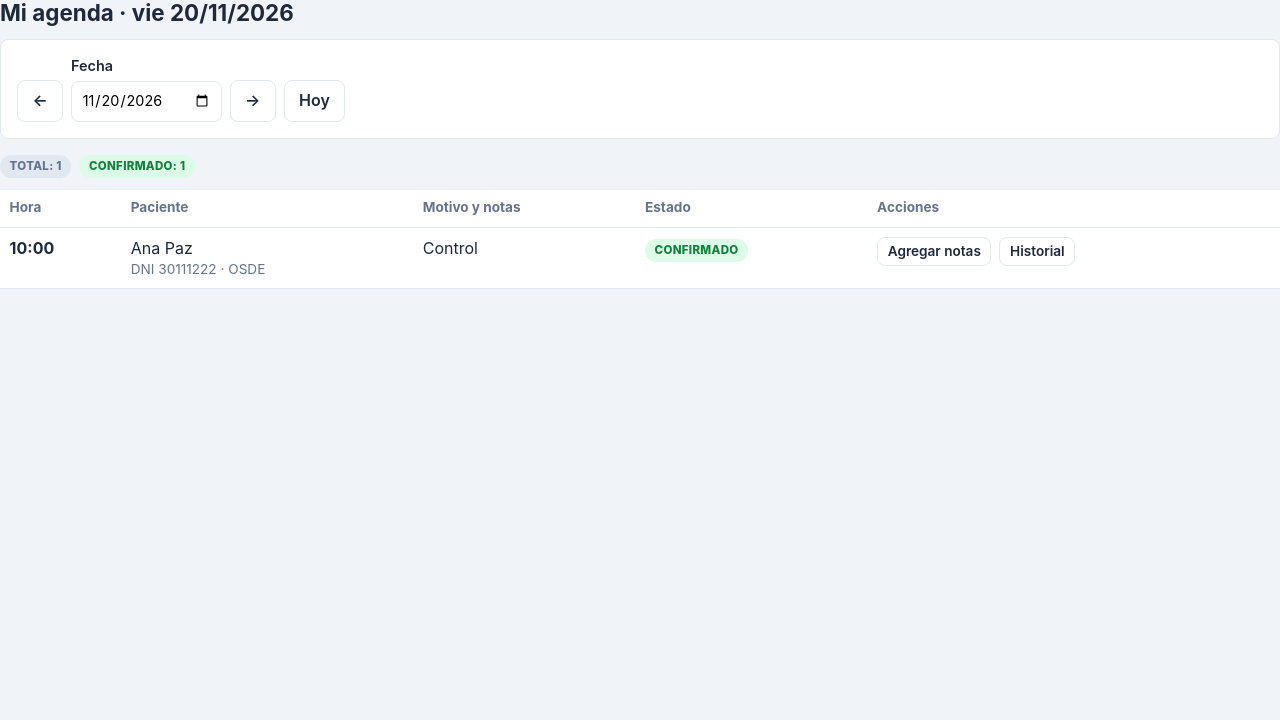
Agenda del médico › el historial pide solo los turnos de ese paciente con el médico
The width and height of the screenshot is (1280, 720).
Click the button with aria-label "Historial de Ana Paz" at (1037, 252), box [1000,237,1075,266]
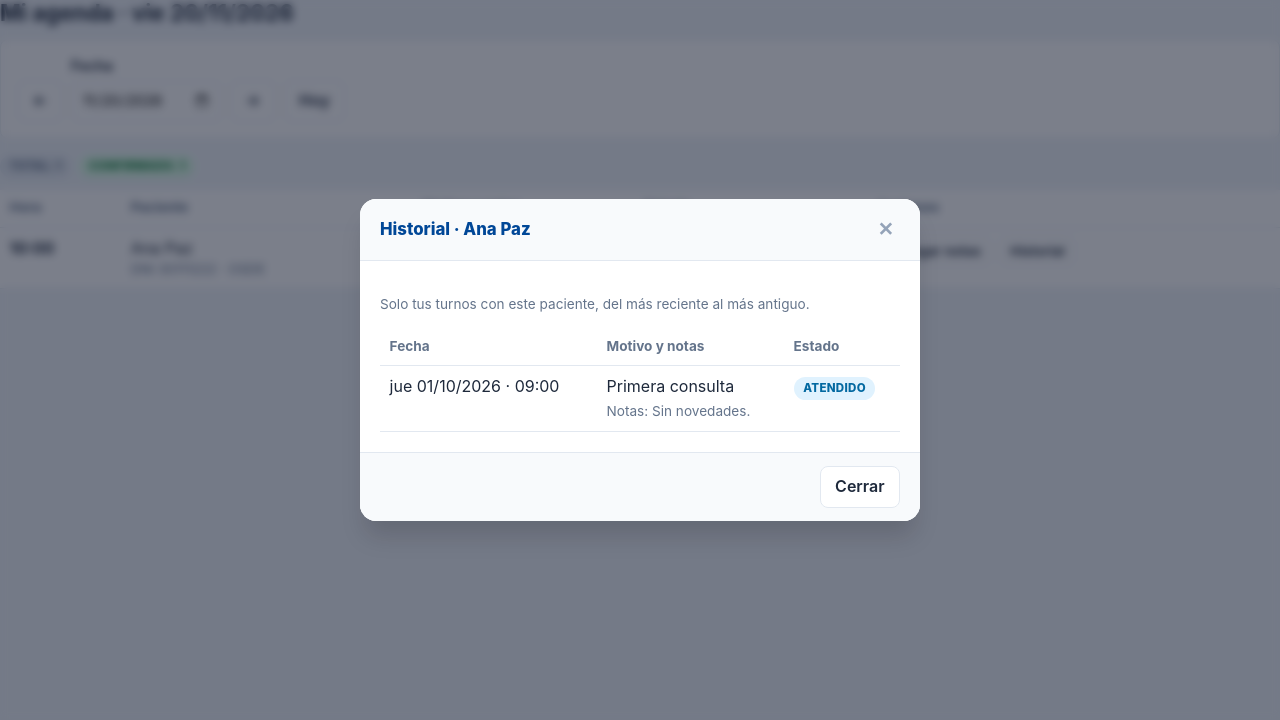
Check: the text "Primera consulta" is shown, box [606,376,734,396]
Check: the text "Notas: Sin novedades." is shown, box [606,402,774,422]
